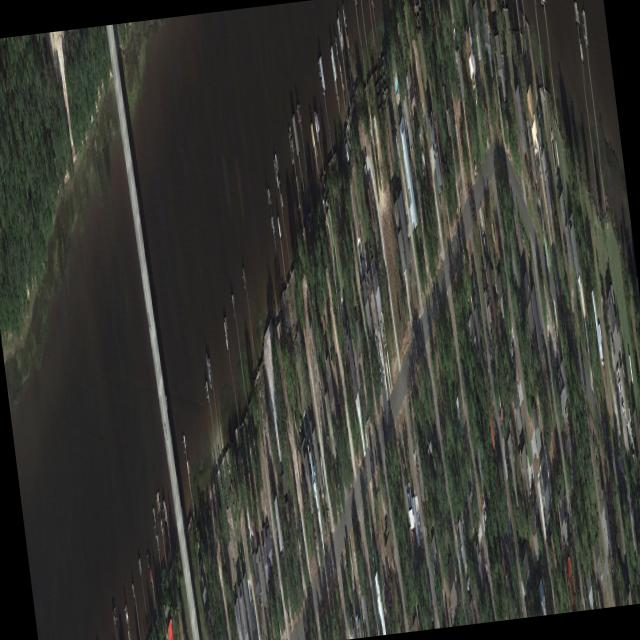ship: (312, 110, 318, 143), (222, 318, 227, 351), (273, 156, 277, 189), (373, 326, 377, 358), (491, 265, 495, 295), (394, 132, 398, 162), (484, 559, 488, 582), (473, 159, 475, 180), (466, 575, 468, 591)
small-vehicle: (627, 352, 632, 383), (481, 228, 485, 254), (381, 335, 385, 361), (629, 426, 633, 450), (385, 585, 389, 609), (535, 179, 539, 202), (393, 119, 397, 142), (607, 325, 611, 345), (626, 397, 629, 422), (313, 529, 316, 553), (537, 157, 540, 180), (163, 423, 166, 446), (298, 513, 301, 536), (378, 366, 381, 388), (534, 179, 537, 200), (420, 156, 423, 175), (383, 578, 386, 596), (381, 368, 384, 386), (146, 313, 149, 330), (617, 378, 620, 393), (620, 401, 623, 413), (484, 240, 486, 257), (412, 447, 414, 461), (363, 144, 365, 157), (367, 169, 369, 182), (483, 509, 485, 521), (631, 451, 633, 462), (510, 344, 512, 355), (482, 496, 483, 513)
